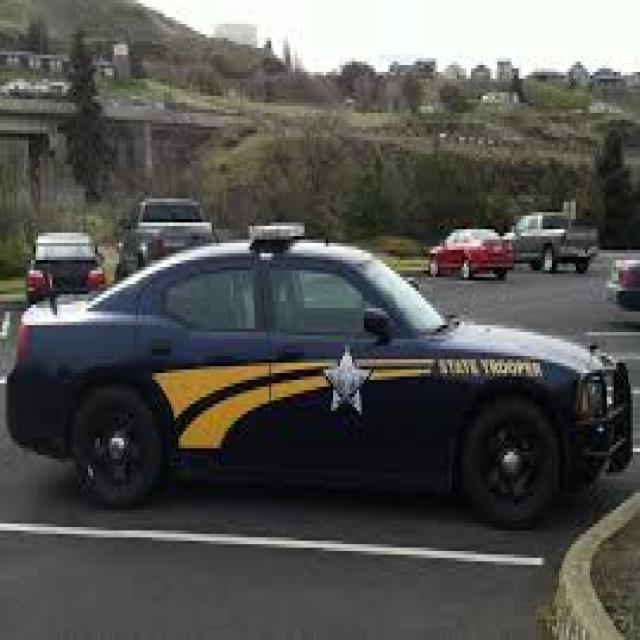cop: (4, 223, 633, 529)
